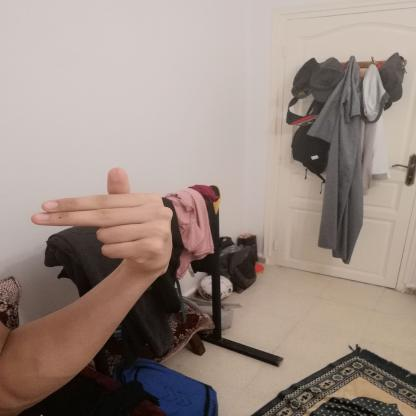GHAYN: (22, 160, 186, 281)
